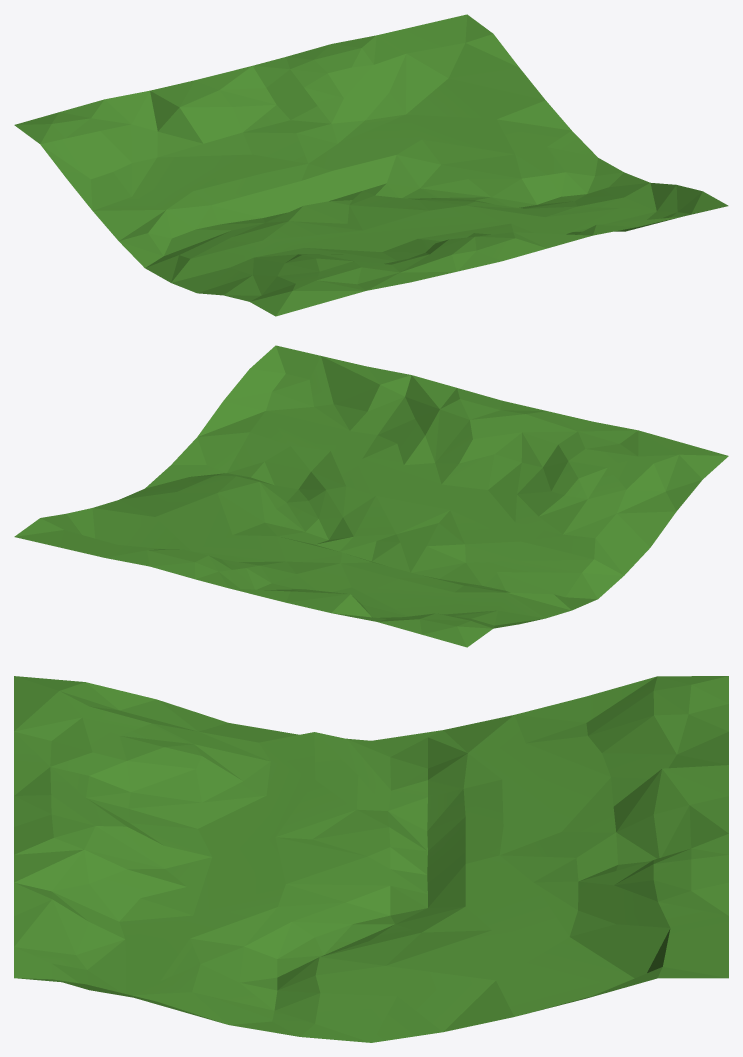
The model's file is terrains_terrain-valley.fbx.
3 renders of one model, top to bottom at view 1: azimuth 30°, elevation 25°; view 2: azimuth 150°, elevation 25°; view 3: azimuth 270°, elevation 25°, orthographic. The views are drawn at different scales.
Visible parts, largest first — view 1: terrains_terrain_valley; view 2: terrains_terrain_valley; view 3: terrains_terrain_valley.
Boxes of the visible parts, left/top/right/bottom form: terrains_terrain_valley: left=14, top=14, right=728, bottom=316; terrains_terrain_valley: left=14, top=345, right=728, bottom=647; terrains_terrain_valley: left=14, top=676, right=728, bottom=1042.
Size of the model in its own units: 200 by 22.39 by 200.
